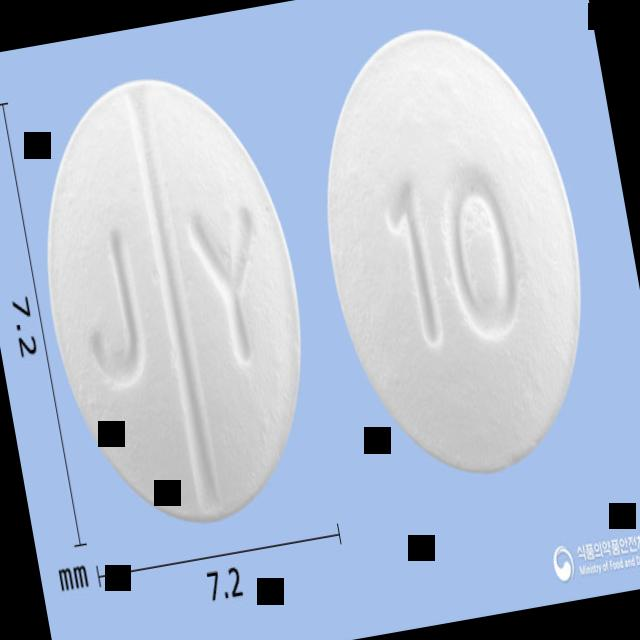Ciprobay: (294, 6, 614, 494), (14, 58, 333, 542)
